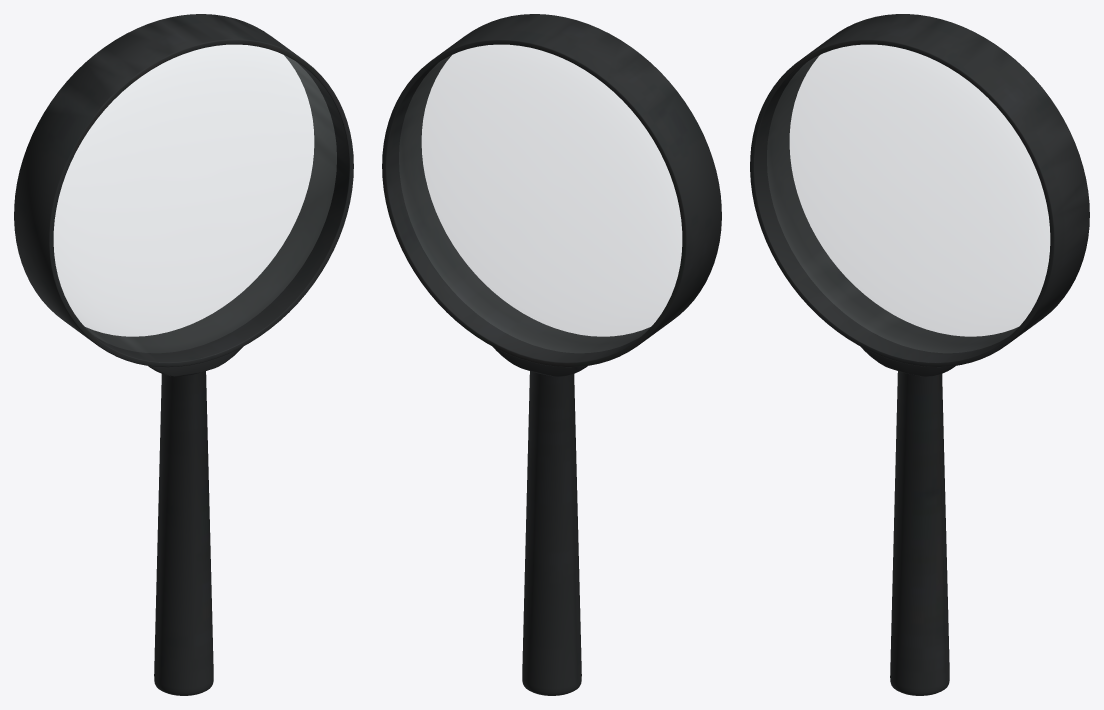
Rendered from magnifying_glass_01.glb.
3 views of the same model, side by side, from view 1: azimuth 30°, elevation 25°; view 2: azimuth 150°, elevation 25°; view 3: azimuth 330°, elevation 25° (orthographic).
Visible parts, largest first — view 1: magnifying_glass_01; view 2: magnifying_glass_01; view 3: magnifying_glass_01.
Part boxes in pixels (x1,y1,x2,y2): magnifying_glass_01: (14,14,353,695); magnifying_glass_01: (382,14,721,695); magnifying_glass_01: (750,14,1089,695).
Size of the model in its own units: 0.132 by 0.2716 by 0.0267.
2 materials, 1 textured.
